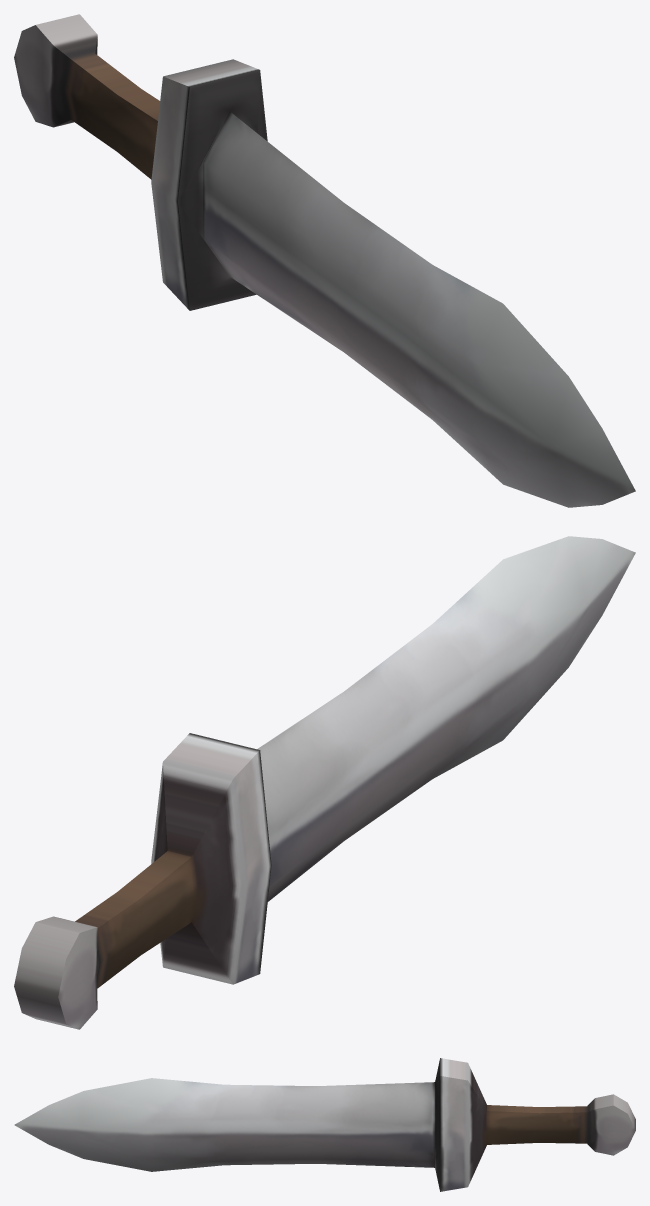
File: sword01.FBX
The picture shows the model from 3 angles, top to bottom: view 1: azimuth 30°, elevation 25°; view 2: azimuth 150°, elevation 25°; view 3: azimuth 270°, elevation 25°; orthographic projection. The views are drawn at different scales.
Parts seen in each view (by area): view 1: sword01; view 2: sword01; view 3: sword01.
Boxes of the visible parts, x1=… form: sword01: x1=14, y1=14, x2=635, y2=507; sword01: x1=14, y1=536, x2=635, y2=1029; sword01: x1=14, y1=1058, x2=635, y2=1191.
Bounding box in the file's own units: 8.45 × 19.27 × 93.53.
Materials: 1 (1 with a texture image).
